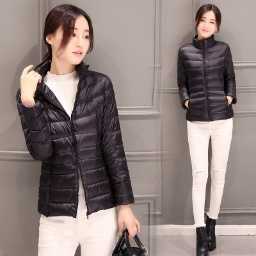face: (26, 2, 97, 80), (188, 1, 225, 45)
